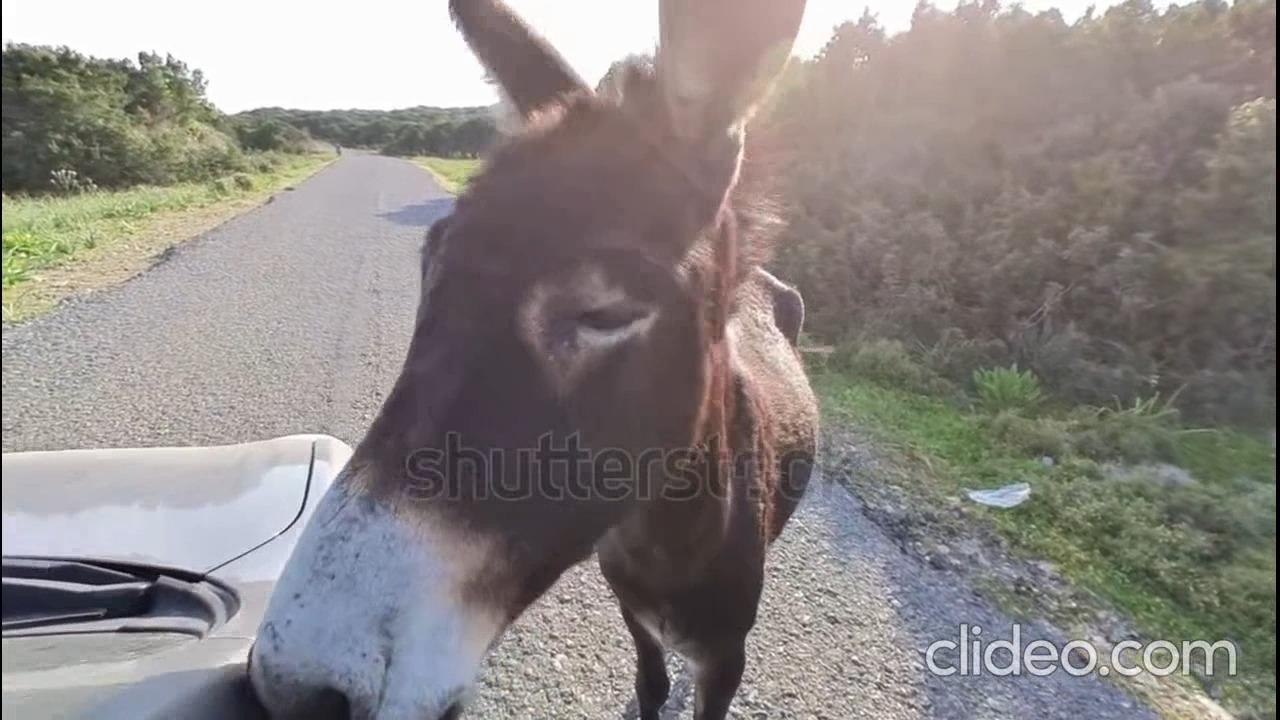Donkey: (231, 0, 811, 715)
